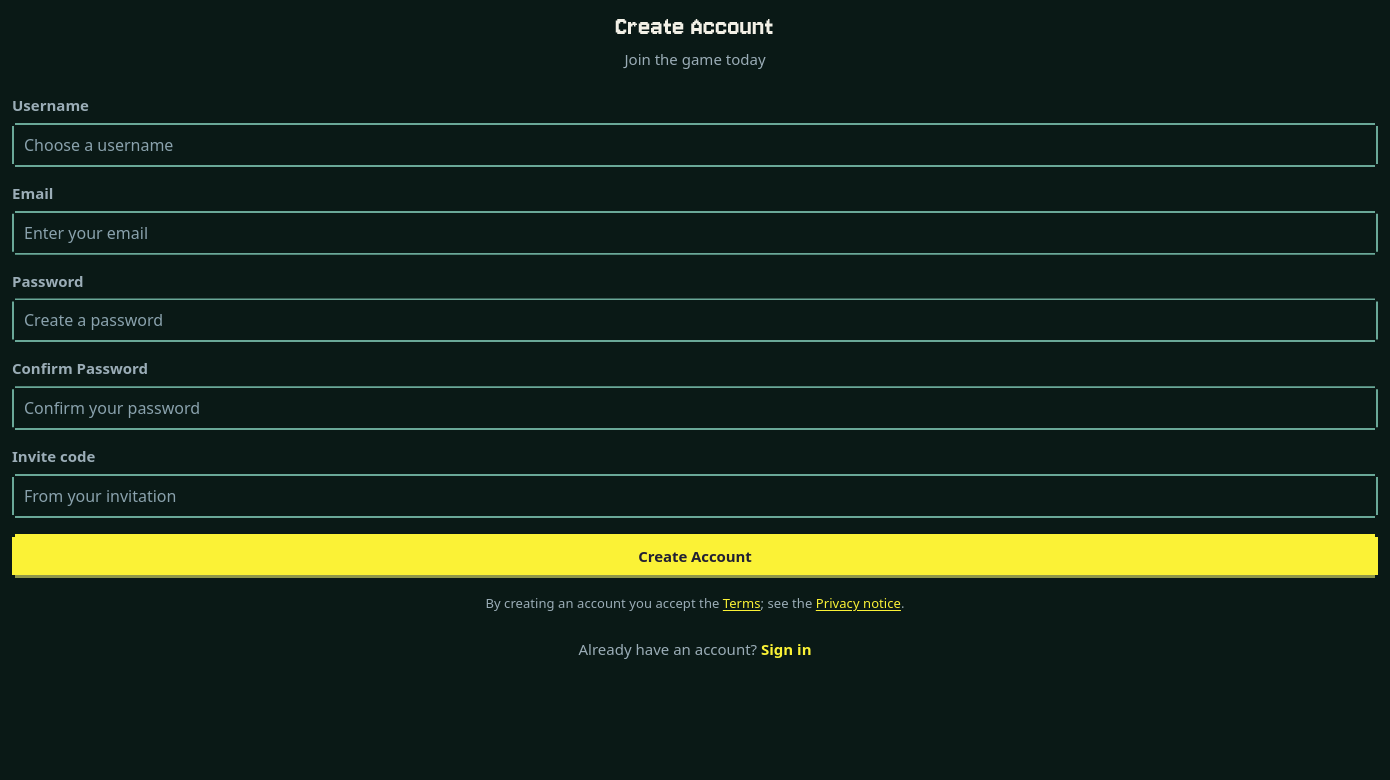
SignupForm credential rules › a username outside the pattern is refused
This screenshot has width=1390, height=780.
Step 1. Type "ana.b" into the field labelled "Username" → (695, 145), box [12,123,1378,167]
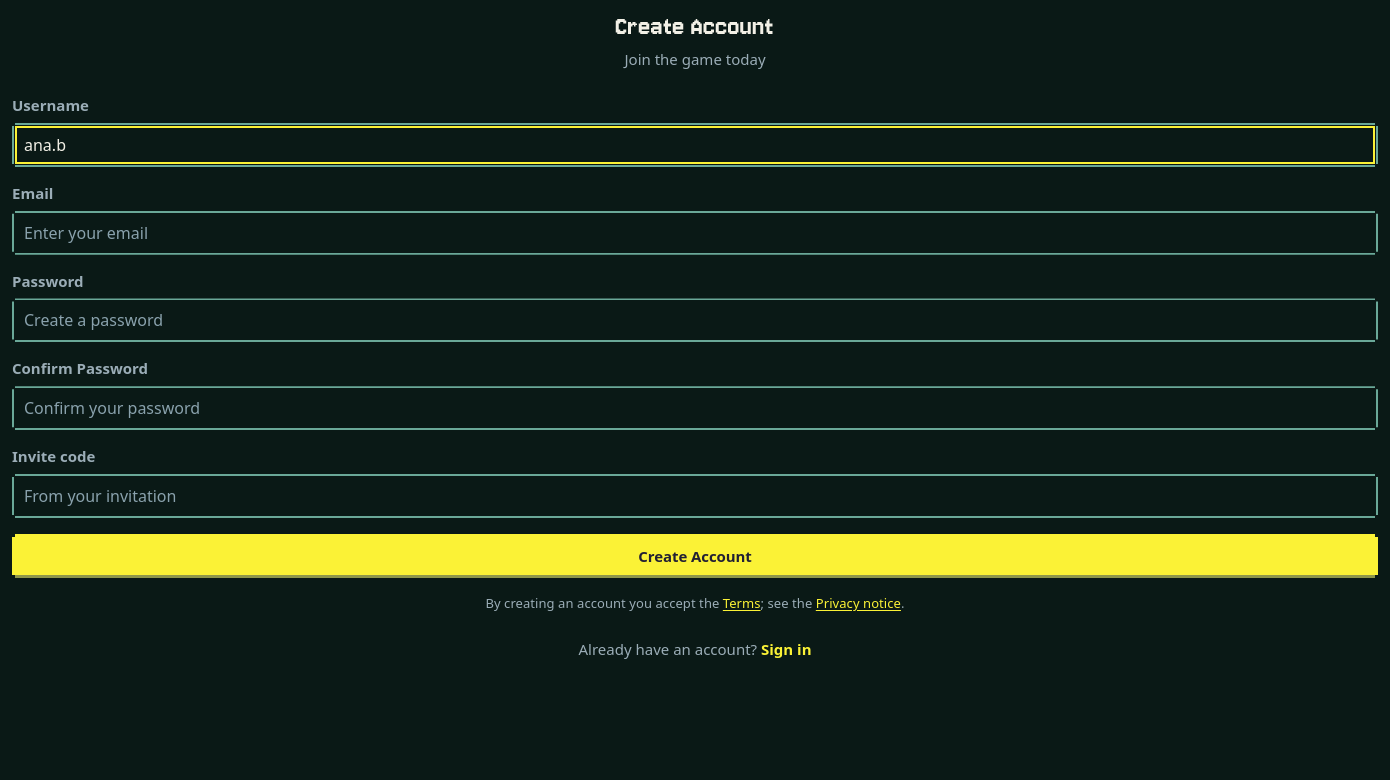
Step 2. Type "ana@example.com" into the field labelled "Email" → (695, 233), box [12,211,1378,255]
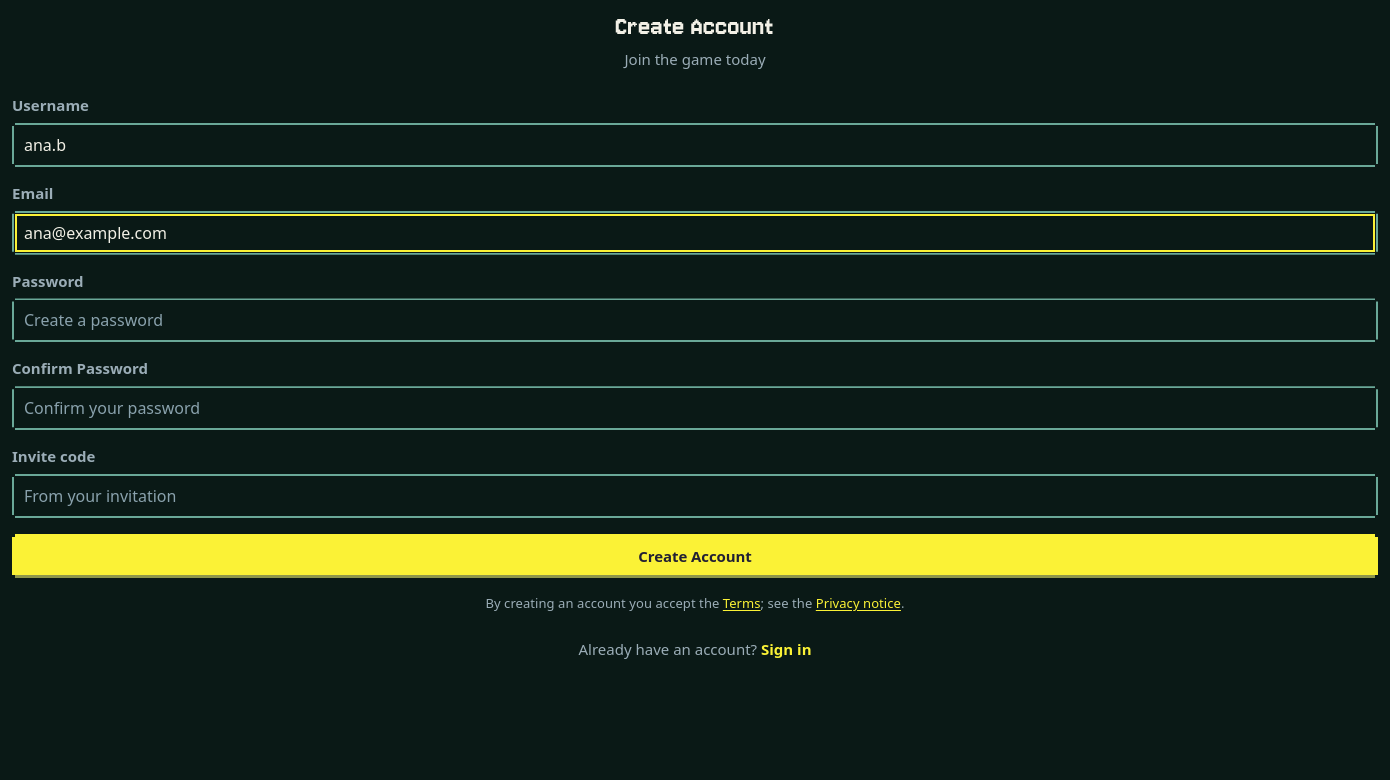
Step 3. Type "long-enough-1" into the password field labelled "Password" → (695, 320), box [12,298,1378,342]
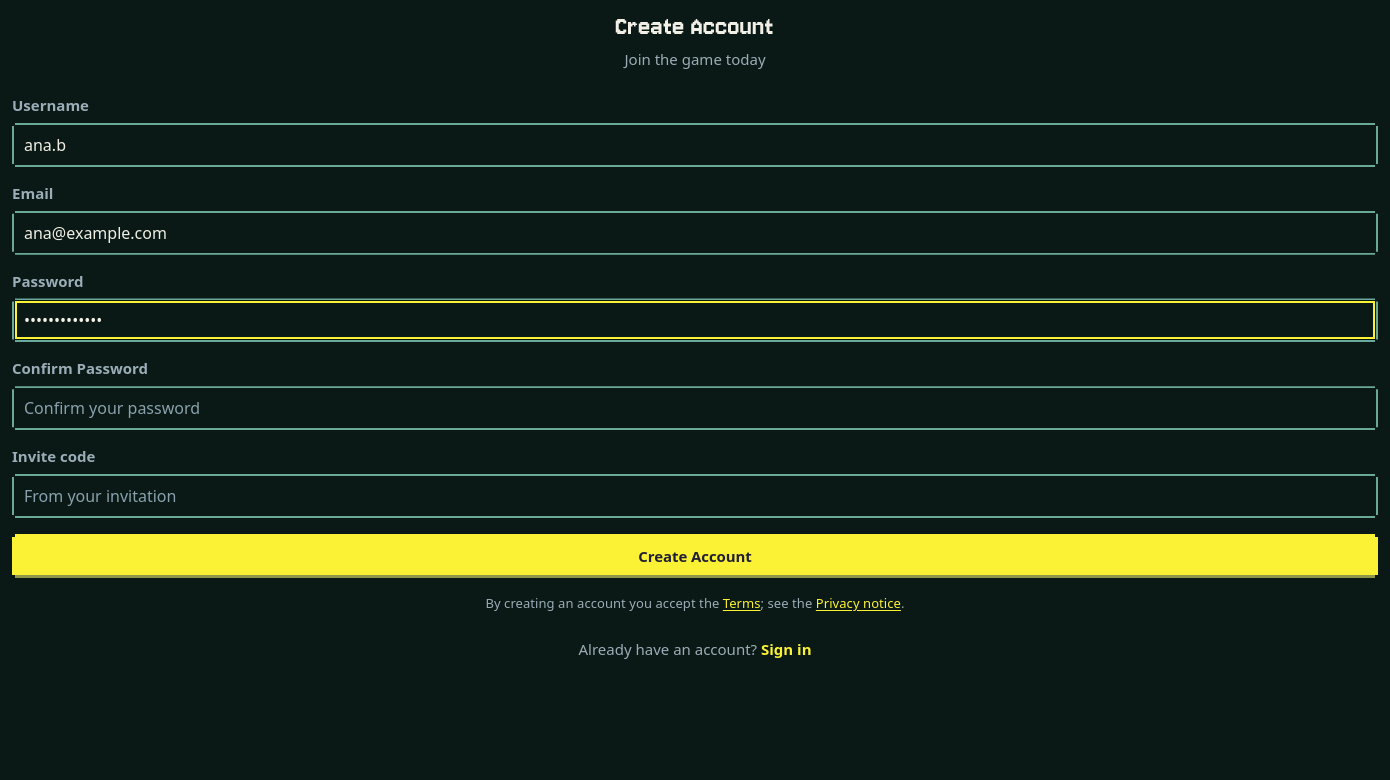
Step 4. Type "long-enough-1" into the password field labelled "Confirm Password" → (695, 408), box [12,386,1378,430]
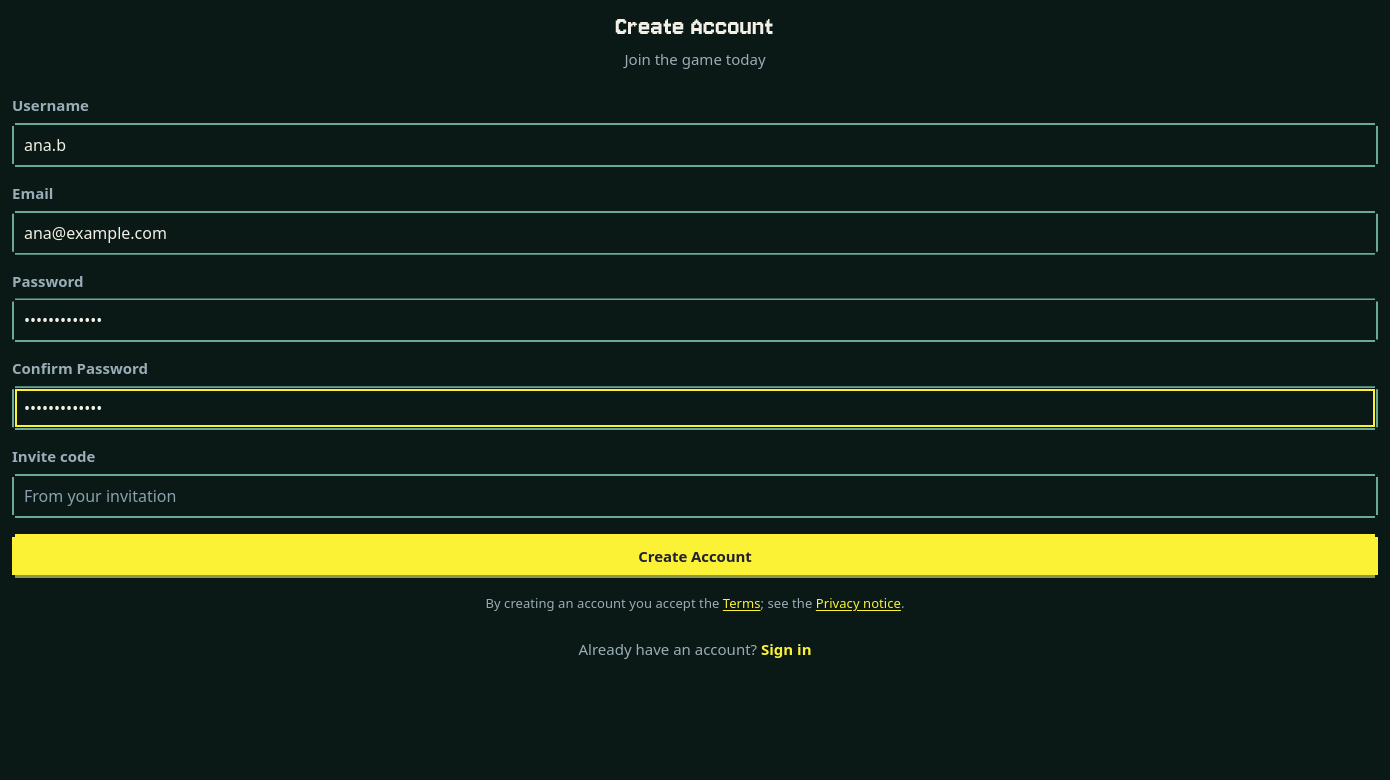
Step 5. Click the button "Create Account" → (695, 556), box [12,534,1378,578]
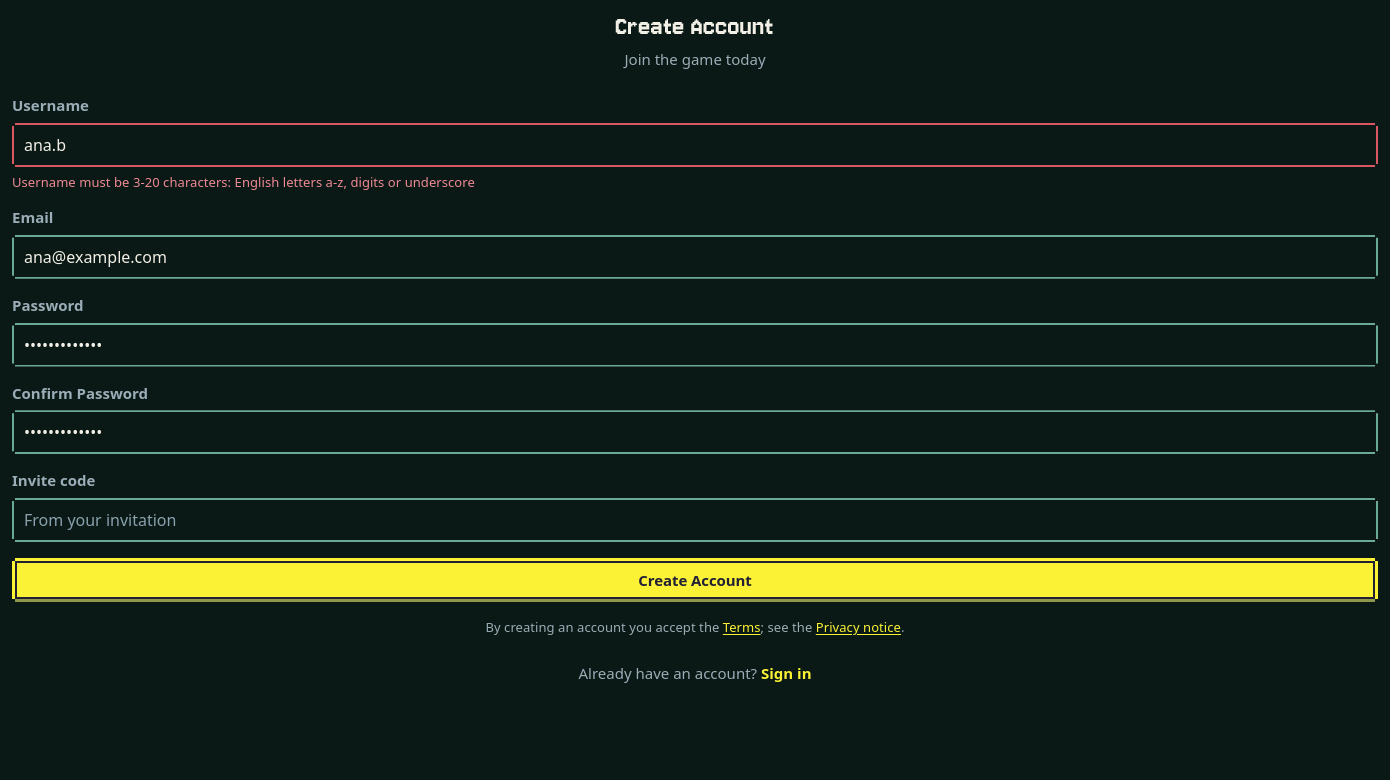
Now the text "Username must be 3-20 characters: English letters a-z, digits or underscore" is shown, box [12,173,475,191]
